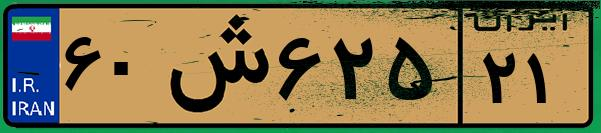0: (110, 28, 158, 98)
1: (525, 38, 570, 115)
2: (330, 28, 385, 110), (475, 38, 525, 113)
5: (385, 28, 445, 110)
6: (270, 28, 330, 110), (57, 26, 110, 100)
ش: (158, 12, 270, 120)
